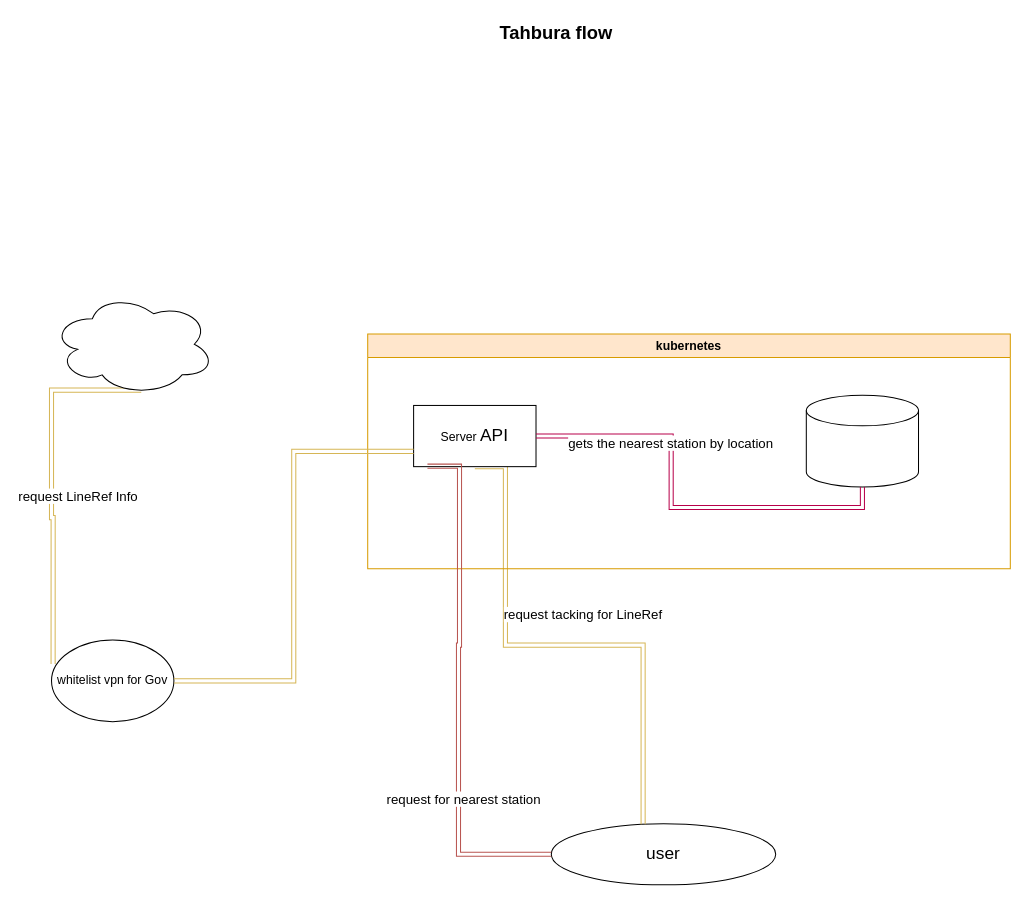
This 1028x903 diagram has some shape labels left out. The centre of each missing label's shape, as x and y in pixels:
"GOV liveServer" belongs at point 132,343.
"stationsDB" belongs at point 862,440.
